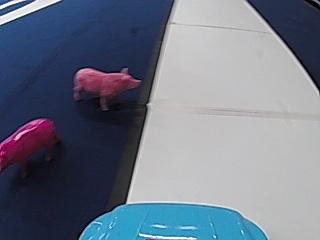pig: (3, 114, 62, 175), (71, 62, 140, 109)
